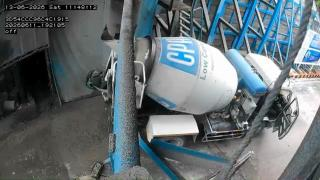cement_mixer_truck: (102, 33, 298, 146)
swing_chute: (107, 0, 137, 37)
